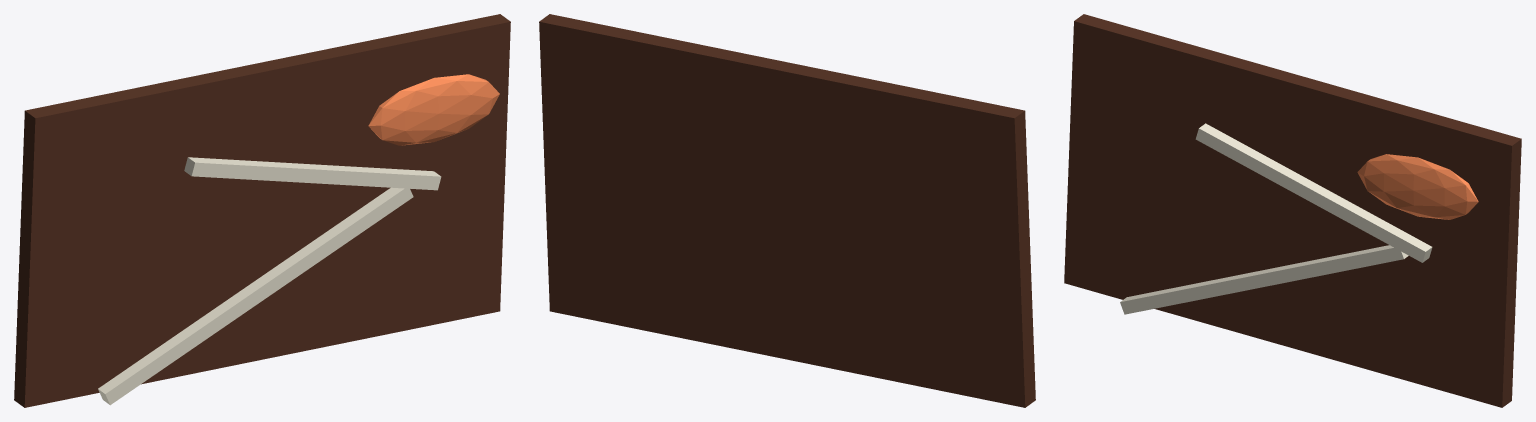
The model's file is 01_weathering_wear_overlay_1.glb.
3 views of the same model, side by side, from view 1: azimuth 30°, elevation 25°; view 2: azimuth 150°, elevation 25°; view 3: azimuth 330°, elevation 25° (orthographic). The views are drawn at different scales.
Parts seen in each view (by area): view 1: wear_plate, scratch_a, rust_or_moss_spot, scratch_b; view 2: wear_plate; view 3: wear_plate, rust_or_moss_spot, scratch_b, scratch_a.
Boxes of the visible parts, box(x1,y1,x2,y2) form: wear_plate: box(14, 14, 510, 407); scratch_a: box(98, 187, 413, 405); rust_or_moss_spot: box(368, 74, 499, 145); scratch_b: box(184, 157, 441, 190); wear_plate: box(539, 14, 1035, 407); wear_plate: box(1064, 14, 1521, 407); rust_or_moss_spot: box(1357, 154, 1478, 219); scratch_b: box(1195, 123, 1432, 262); scratch_a: box(1120, 245, 1408, 314).
Bounding box in the file's own units: 1.33 × 0.8002 × 0.134.
